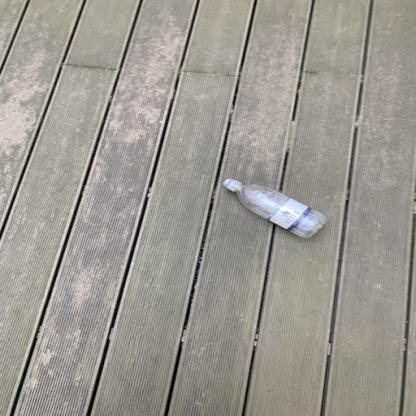trash: (224, 178, 328, 241)
